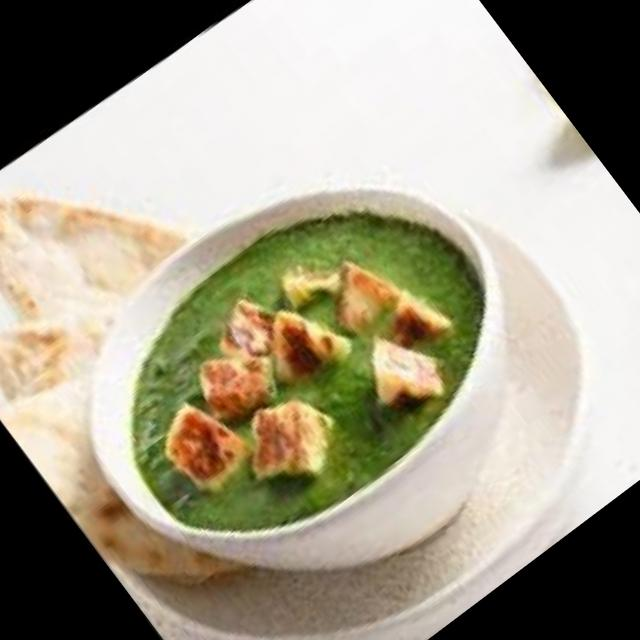palak_paneer: (62, 138, 544, 600)
